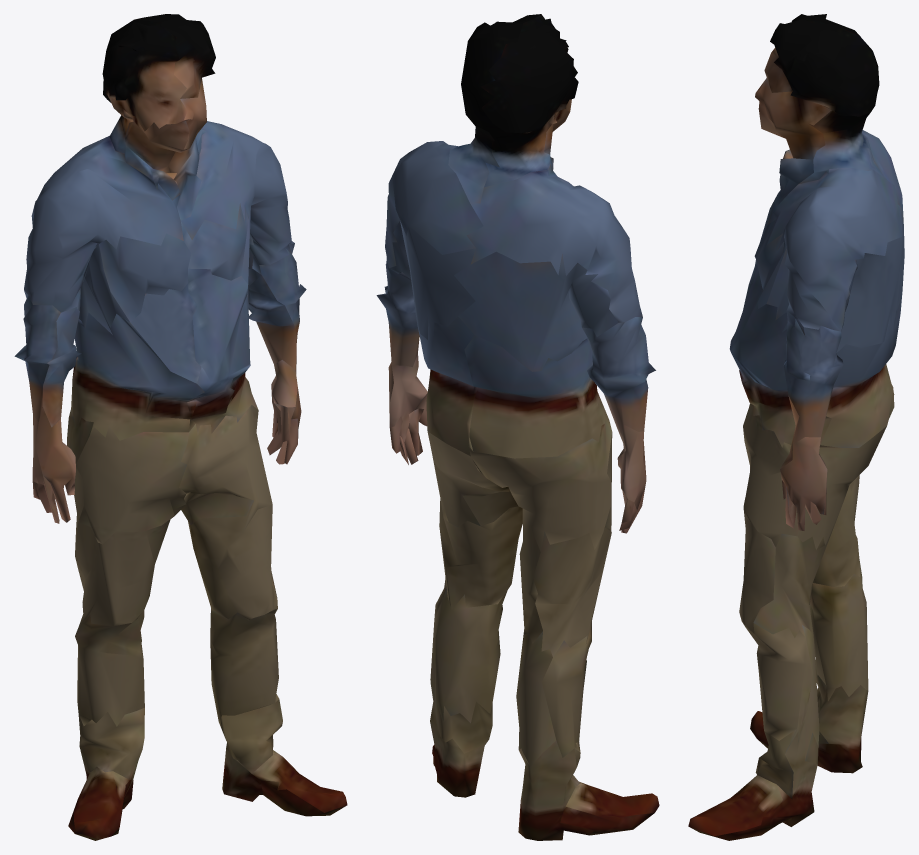
File: masyarakat_2_idle_lod2.glb
The picture shows the model from 3 angles, left to right: view 1: azimuth 30°, elevation 25°; view 2: azimuth 150°, elevation 25°; view 3: azimuth 270°, elevation 25°; orthographic projection. The views are drawn at different scales.
Visible parts, largest first — view 1: tripo_node_a9dacee6; view 2: tripo_node_a9dacee6; view 3: tripo_node_a9dacee6.
Boxes of the visible parts, <box> form: tripo_node_a9dacee6: <box>14,14,347,840</box>; tripo_node_a9dacee6: <box>376,14,659,840</box>; tripo_node_a9dacee6: <box>688,14,904,840</box>.
Size of the model in its own units: 36.42 by 99.2 by 25.56.
Materials: 1 (1 with a texture image).
